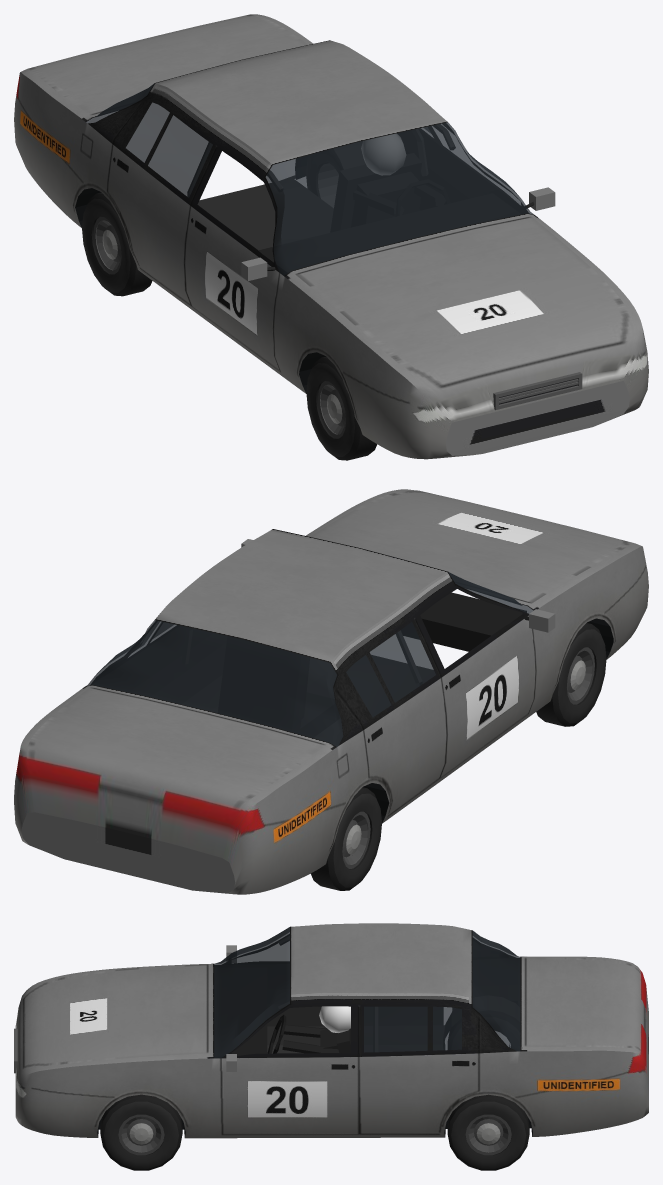
3 views of the same model, one above another, from view 1: azimuth 30°, elevation 25°; view 2: azimuth 150°, elevation 25°; view 3: azimuth 270°, elevation 25° (orthographic). The views are drawn at different scales.
Parts seen in each view (by area): view 1: body, wheel_fr, wheel_rr, wheel_rl; view 2: body, wheel_rr, wheel_fr; view 3: body, wheel_fl, wheel_rl, wheel_rr.
Boxes of the visible parts, x1=… form: body: x1=14, y1=14, x2=648, y2=459; wheel_fr: x1=306, y1=356, x2=376, y2=460; wheel_rr: x1=82, y1=192, x2=152, y2=296; wheel_rl: x1=306, y1=149, x2=343, y2=207; body: x1=14, y1=489, x2=648, y2=894; wheel_rr: x1=311, y1=787, x2=381, y2=890; wheel_fr: x1=536, y1=623, x2=606, y2=726; body: x1=14, y1=923, x2=648, y2=1138; wheel_fl: x1=100, y1=1094, x2=182, y2=1170; wheel_rl: x1=447, y1=1094, x2=529, y2=1170; wheel_rr: x1=448, y1=1010, x2=519, y2=1050.
Size of the model in its own units: 2.07 by 1.41 by 4.79.
Materials: 3 (2 with a texture image).
